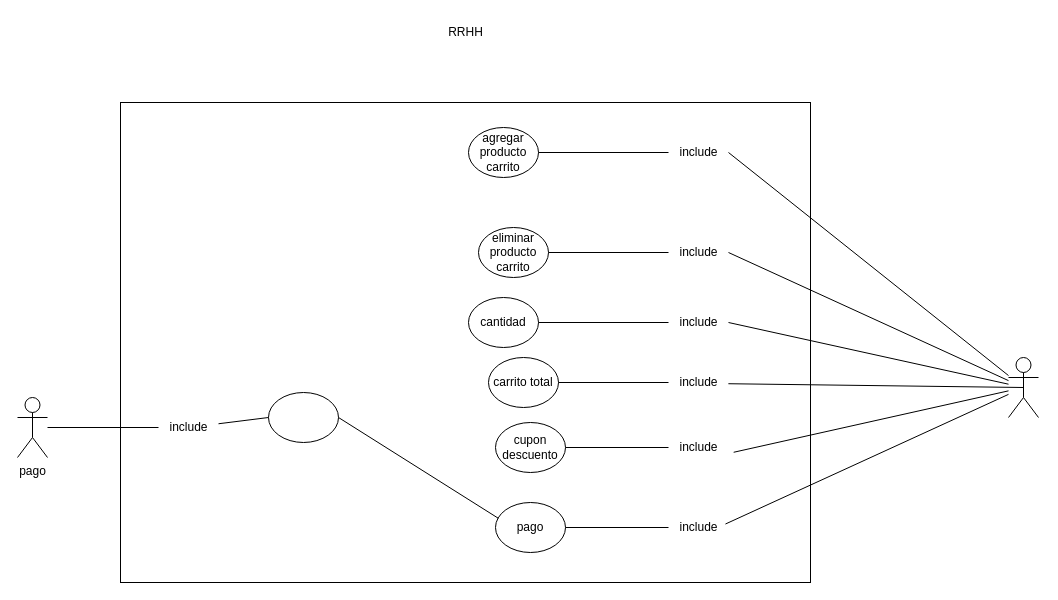
Some shapes in this 1058 by 600 pixel diagram are drawn without their labels. Each missing label, with the box of its shape:
cliente: (1008, 356, 1038, 418)
sistema pago: (268, 392, 338, 442)
